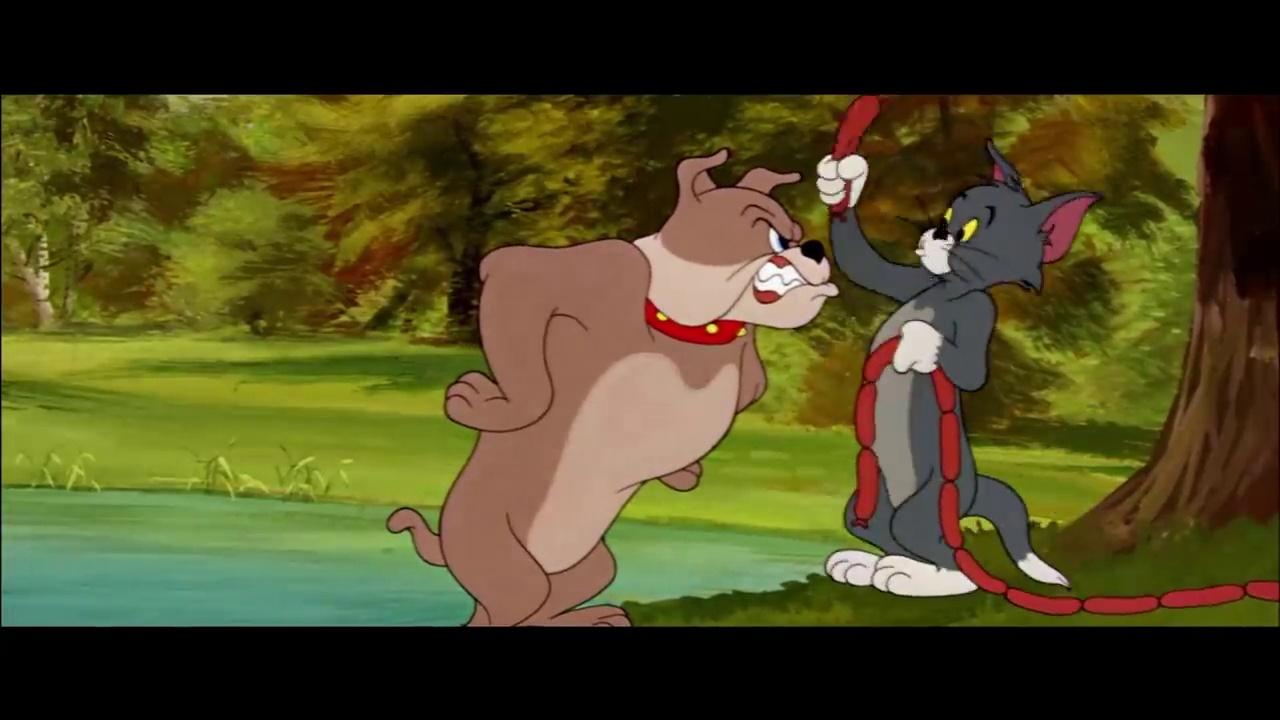Tom: (812, 137, 1107, 598)
